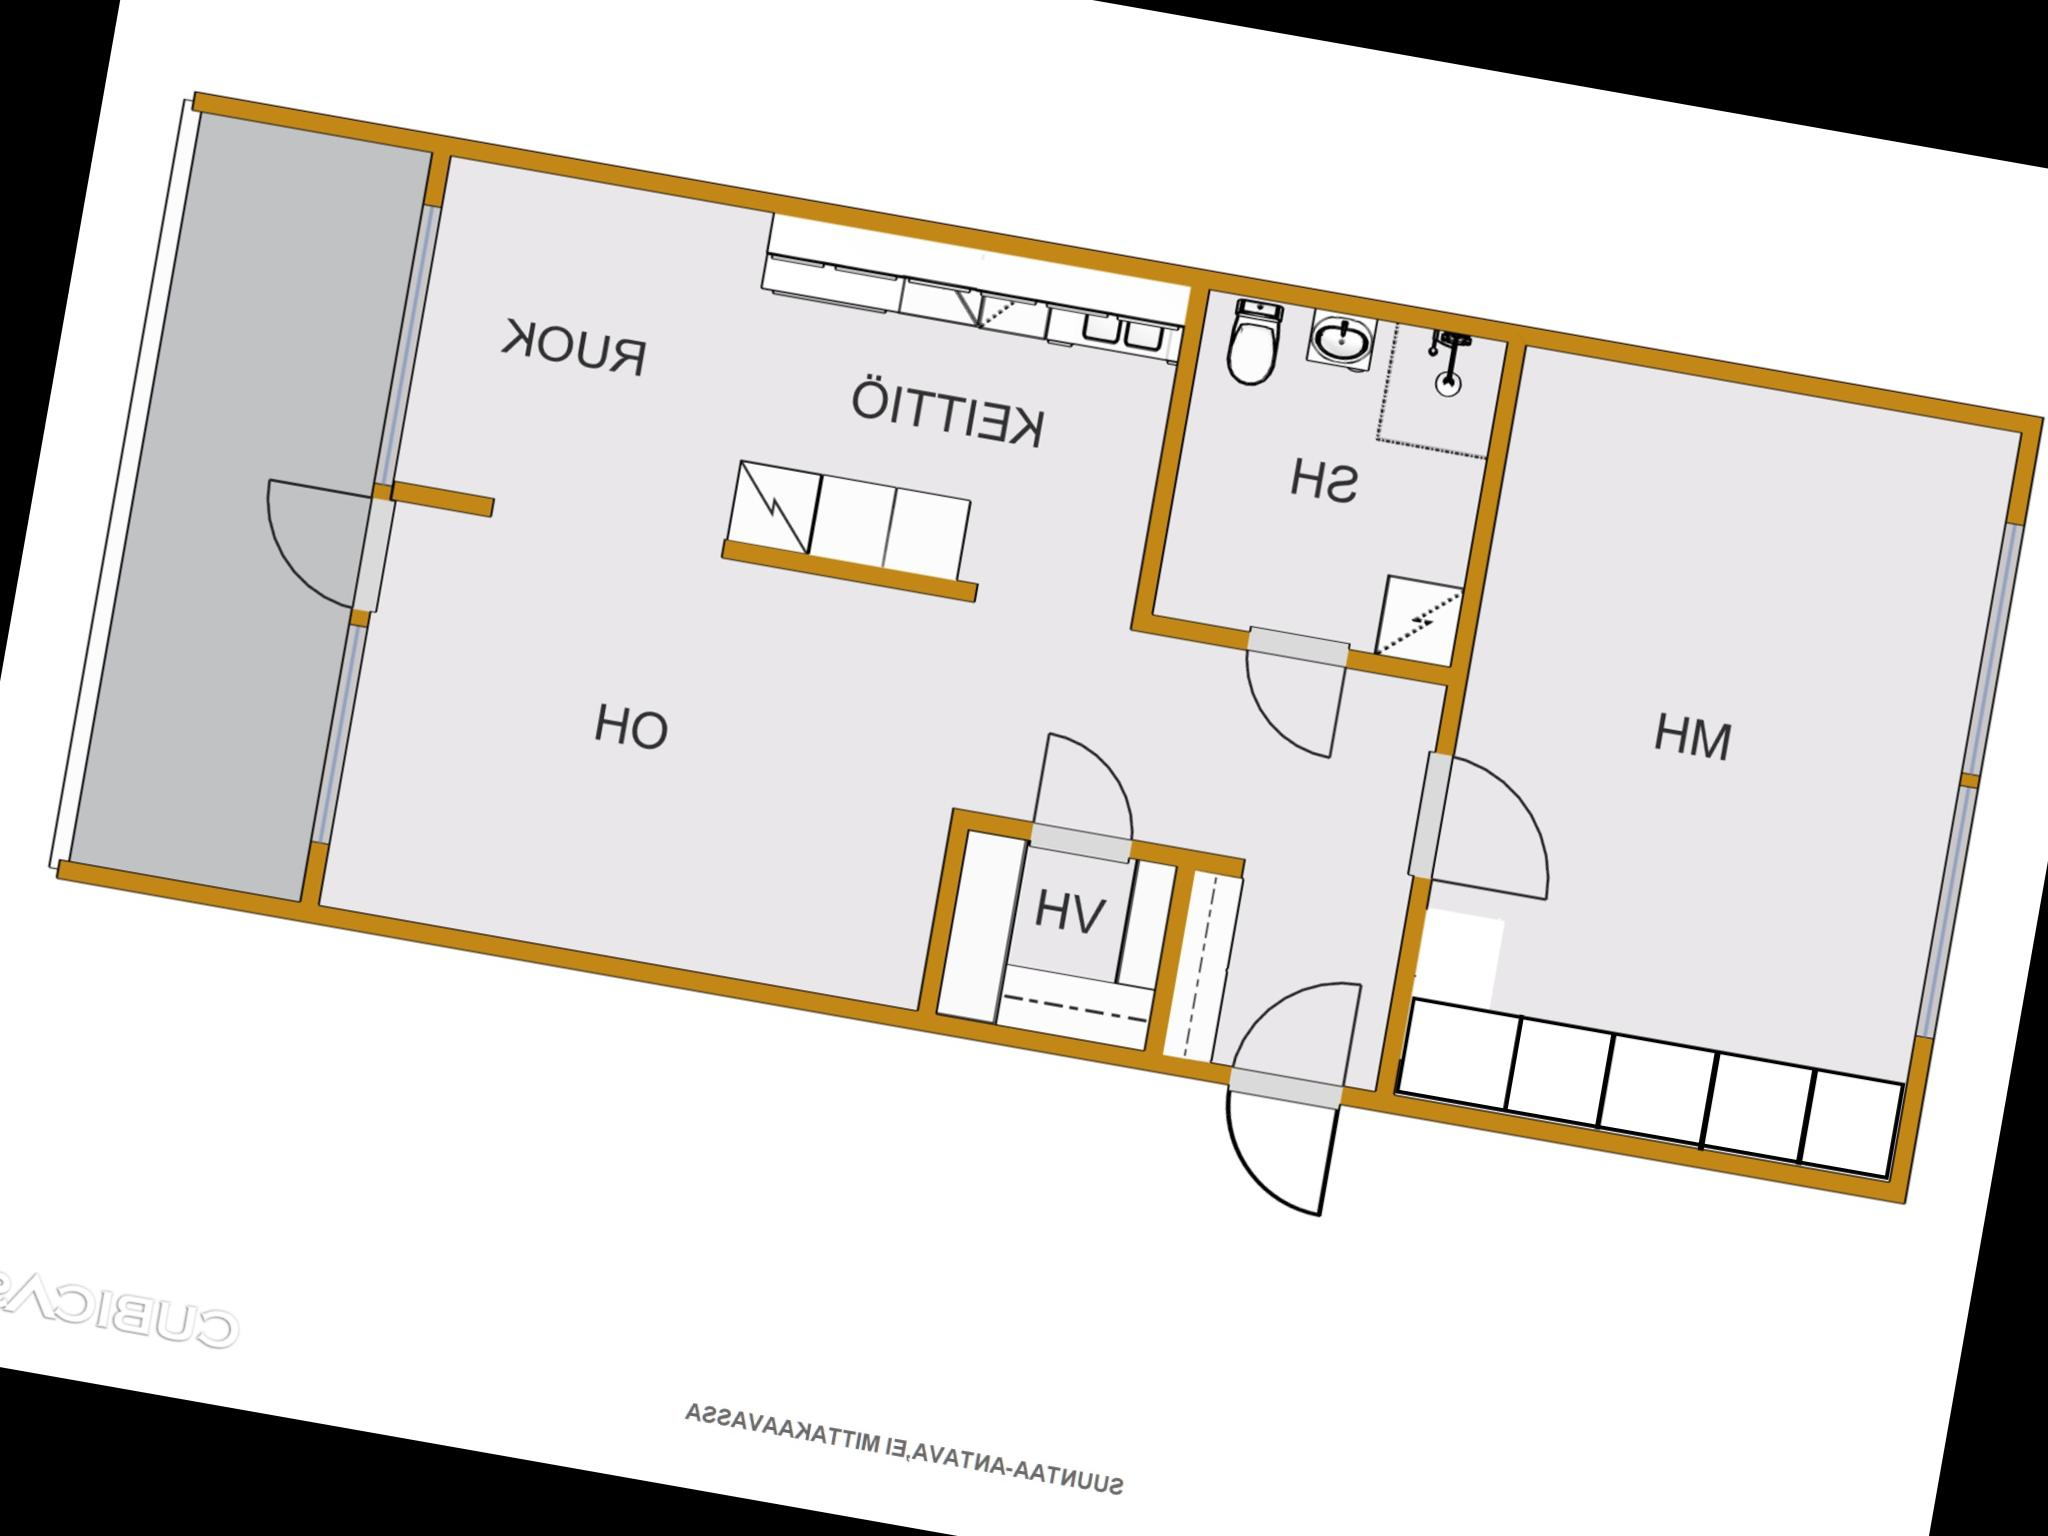door: (1397, 741, 1576, 913), (239, 474, 403, 618), (1224, 958, 1374, 1112), (1193, 1075, 1347, 1225), (1014, 721, 1163, 876), (1218, 610, 1364, 766)
window: (360, 187, 455, 500), (1948, 511, 2037, 789), (1901, 778, 1987, 1050), (297, 608, 377, 865)
